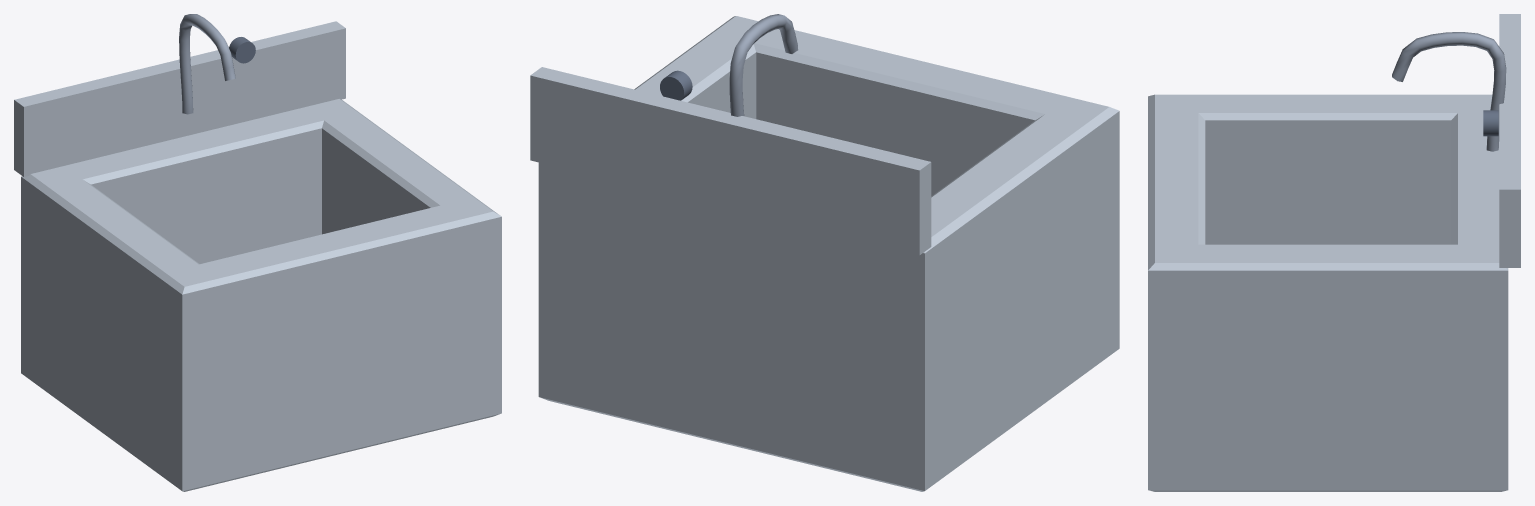
The model's file is mop-sink.glb.
The picture shows the model from 3 angles, left to right: view 1: azimuth 30°, elevation 25°; view 2: azimuth 150°, elevation 25°; view 3: azimuth 270°, elevation 25°; orthographic projection. The views are drawn at different scales.
Parts seen in each view (by area): view 1: light, body, dark; view 2: light, body, dark; view 3: light, body, dark.
Part boxes in pixels (x1,y1,x2,y2): light: (14, 21, 501, 491); body: (179, 14, 235, 114); dark: (229, 37, 255, 63); light: (530, 16, 1119, 491); body: (729, 14, 798, 116); dark: (660, 70, 692, 100); light: (1148, 14, 1520, 491); body: (1392, 32, 1506, 151); dark: (1483, 110, 1498, 136).
Size of the model in its own units: 0.48 by 0.4773 by 0.4305.
